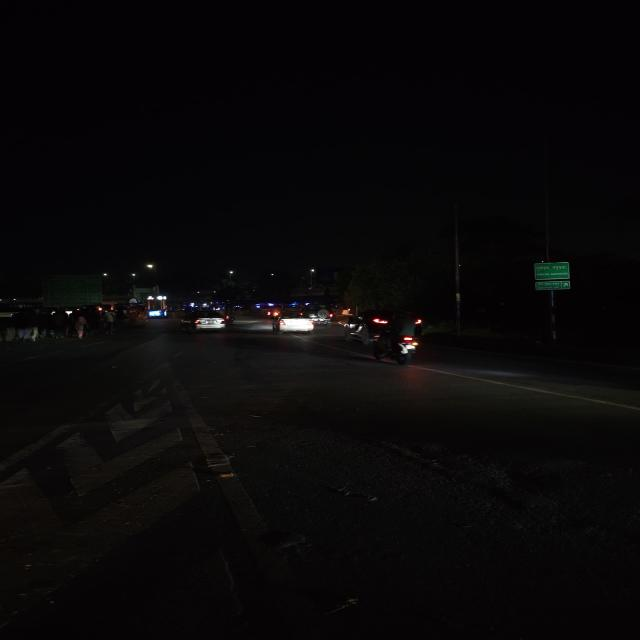car: (179, 310, 232, 334), (270, 310, 316, 336)
motorcycle: (364, 307, 429, 367)
pedestrian: (99, 309, 119, 335)
